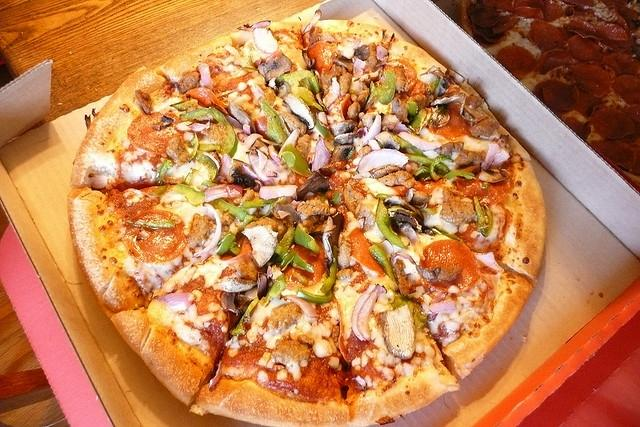bell pepper: (179, 106, 238, 158), (275, 70, 323, 112), (375, 197, 408, 250), (258, 96, 289, 150), (368, 244, 399, 290), (390, 132, 428, 158), (404, 153, 450, 174), (320, 246, 340, 294), (282, 144, 312, 176), (208, 198, 247, 222), (170, 182, 204, 208), (374, 66, 396, 104), (473, 196, 493, 237), (294, 224, 320, 254), (429, 154, 454, 180), (196, 154, 218, 182), (296, 288, 334, 304), (292, 250, 316, 274), (269, 272, 287, 300), (242, 197, 278, 210), (216, 233, 236, 256), (280, 250, 298, 272), (442, 170, 474, 180), (237, 214, 254, 232), (196, 144, 220, 156), (408, 101, 418, 120), (419, 172, 433, 182)
mushroom: (380, 304, 416, 360), (241, 224, 278, 267), (256, 53, 292, 96), (440, 186, 476, 227), (280, 93, 316, 130), (358, 148, 410, 173), (295, 170, 330, 202), (270, 339, 312, 365), (388, 209, 419, 244), (396, 131, 443, 151), (228, 101, 256, 134), (267, 304, 300, 331), (233, 165, 263, 193), (252, 27, 278, 54), (272, 202, 300, 226), (322, 76, 341, 110), (259, 184, 298, 200), (344, 184, 364, 214), (221, 277, 258, 293), (354, 66, 383, 84), (330, 144, 356, 164), (428, 105, 450, 128), (178, 71, 200, 94), (479, 166, 510, 182), (220, 292, 240, 316), (375, 131, 400, 150), (331, 120, 358, 136), (135, 90, 153, 114), (348, 76, 368, 96), (462, 105, 484, 122), (257, 272, 268, 300), (208, 151, 222, 173), (420, 72, 441, 86), (388, 205, 417, 215), (334, 132, 358, 144), (354, 44, 370, 62), (324, 216, 336, 234)
onion: (194, 202, 222, 258), (356, 283, 380, 341), (356, 148, 410, 173), (154, 292, 194, 314), (398, 131, 442, 150), (312, 134, 332, 172), (286, 295, 318, 318), (228, 100, 254, 128), (204, 184, 243, 202), (252, 27, 278, 54), (474, 251, 504, 273), (278, 128, 300, 158), (322, 76, 340, 111), (362, 115, 381, 148), (258, 185, 298, 200), (216, 152, 234, 184), (480, 143, 500, 170), (237, 20, 271, 32), (429, 300, 456, 314), (268, 300, 291, 316), (198, 62, 212, 88), (492, 146, 510, 166), (209, 360, 222, 387), (256, 272, 268, 300), (244, 133, 263, 150), (353, 58, 366, 77), (256, 150, 267, 170), (186, 122, 206, 132), (376, 46, 388, 59), (268, 144, 278, 156), (369, 140, 381, 150), (243, 124, 251, 136)
